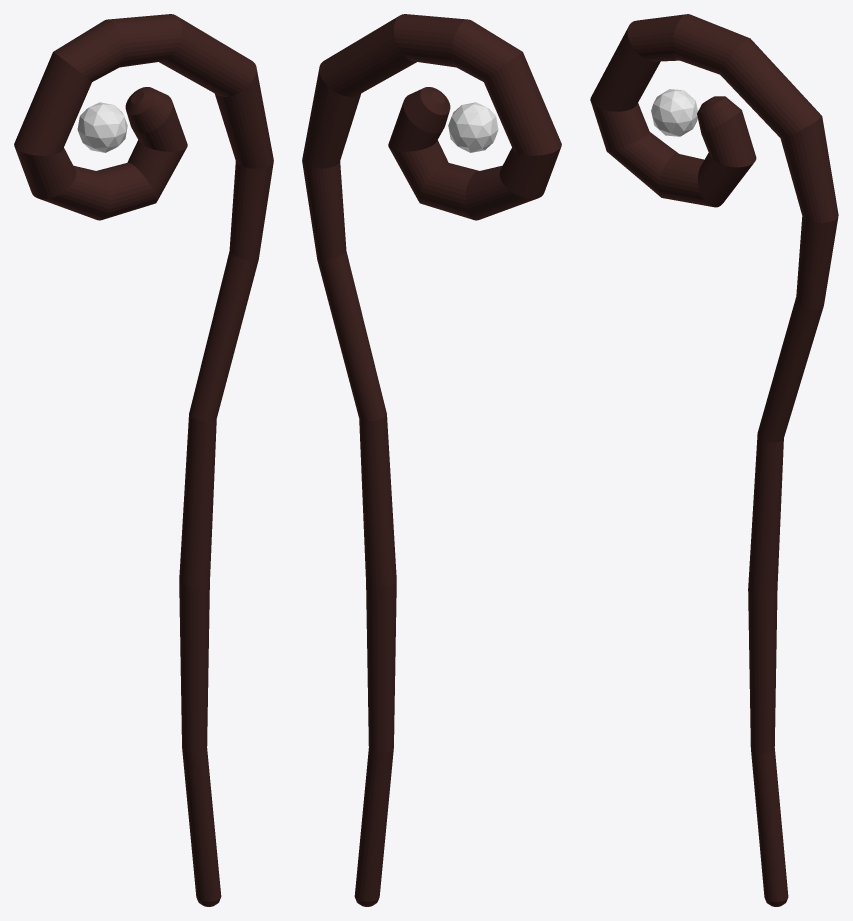
The model's file is GreatStaff.glb.
3 views of the same model, side by side, from view 1: azimuth 30°, elevation 25°; view 2: azimuth 150°, elevation 25°; view 3: azimuth 330°, elevation 25° (orthographic). The views are drawn at different scales.
Visible parts, largest first — view 1: Cylinder; view 2: Cylinder; view 3: Cylinder.
Part boxes in pixels (x1=…): Cylinder: x1=14, y1=14, x2=273, y2=906; Cylinder: x1=302, y1=14, x2=561, y2=906; Cylinder: x1=590, y1=14, x2=838, y2=906.
Size of the model in its own units: 0.8852 by 3.02 by 0.1549.
